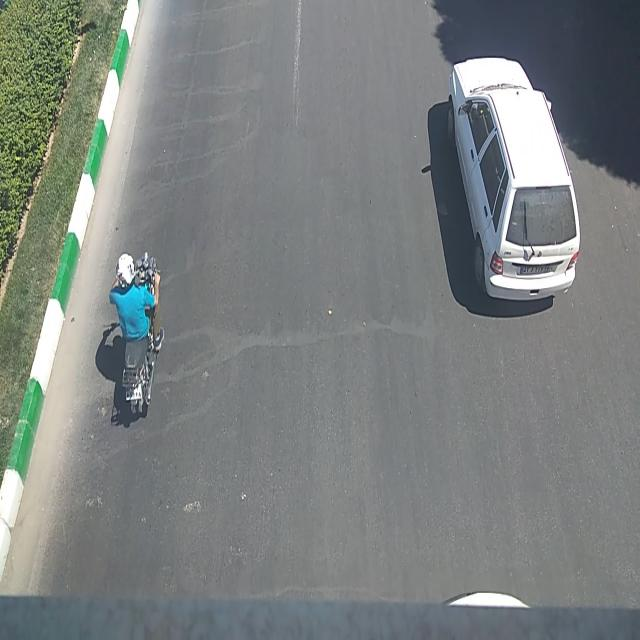car: (441, 56, 581, 299)
motor: (108, 245, 166, 430)
